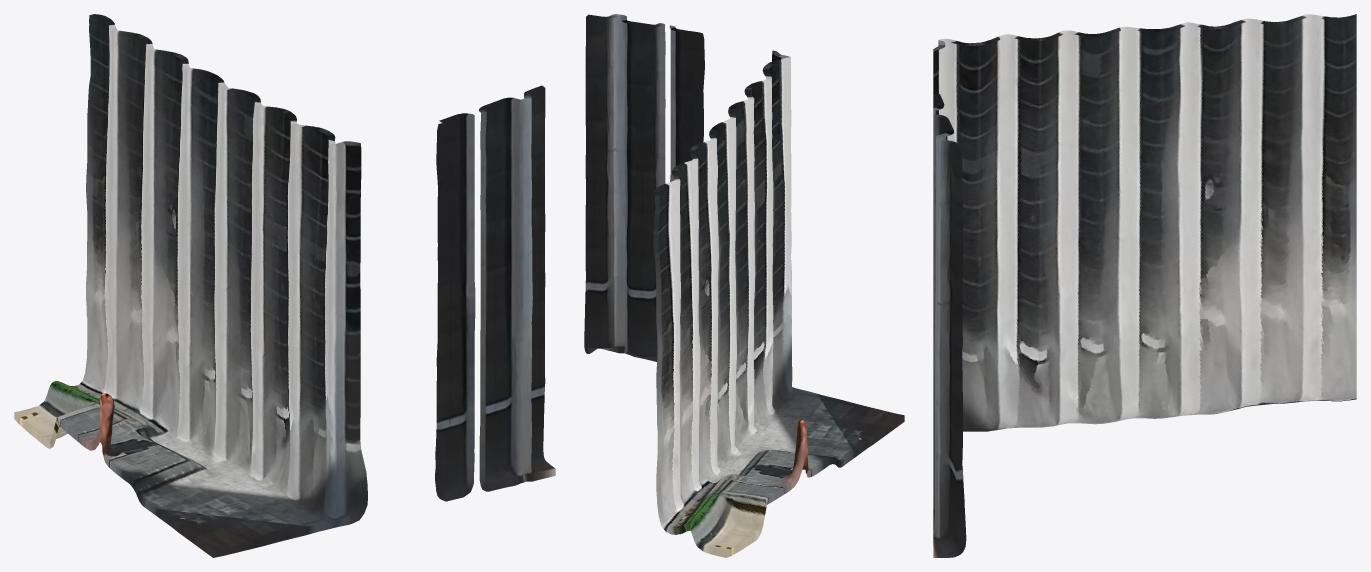
File: z20-167780-405229-h0-yup-uvflip-v3-world.glb
The picture shows the model from 3 angles, left to right: view 1: azimuth 30°, elevation 25°; view 2: azimuth 150°, elevation 25°; view 3: azimuth 270°, elevation 25°; orthographic projection. The views are drawn at different scales.
Size of the model in its own units: 30.16 by 32.84 by 30.32.
1 material, 1 textured.
